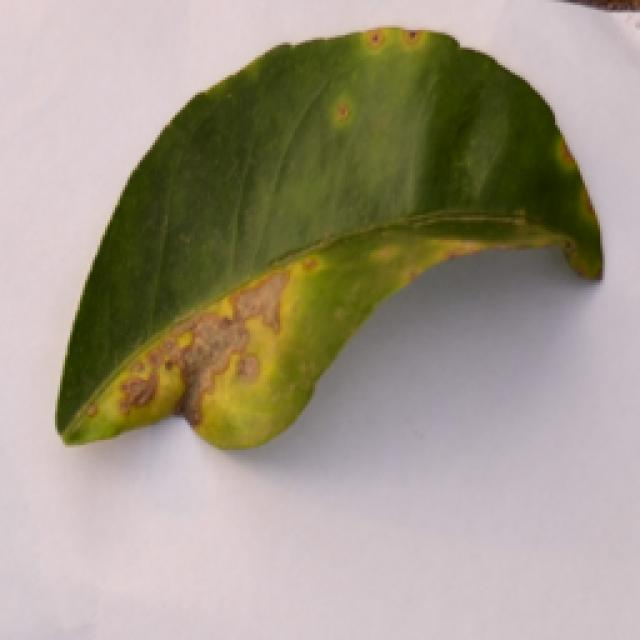canker: (85, 20, 530, 463)
